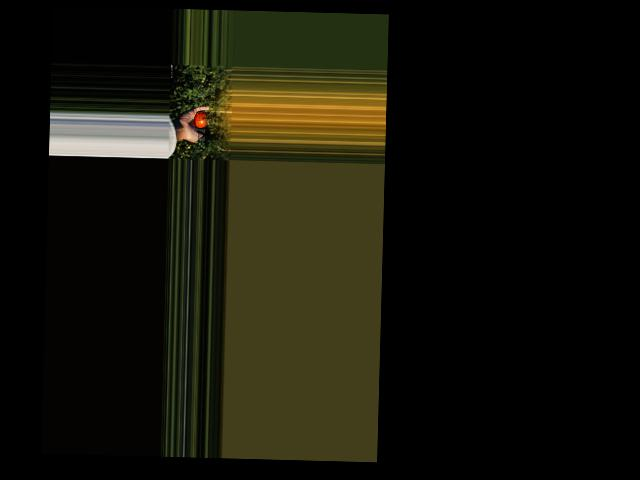tomato: (194, 110, 209, 127)
